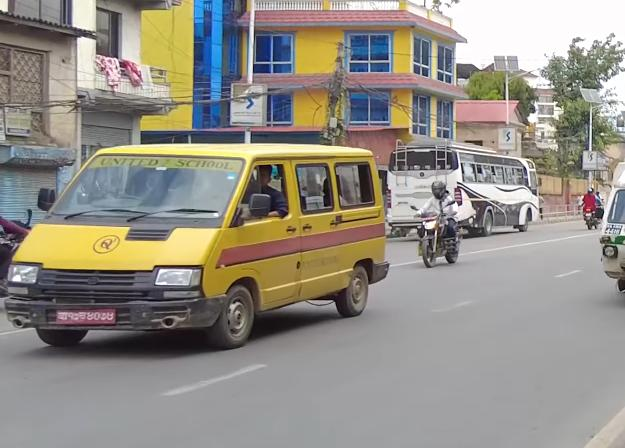bike: (411, 201, 470, 269), (581, 198, 605, 229)
bus: (389, 132, 544, 236)
school_bus: (5, 137, 391, 353)
tempo: (598, 157, 625, 297)
